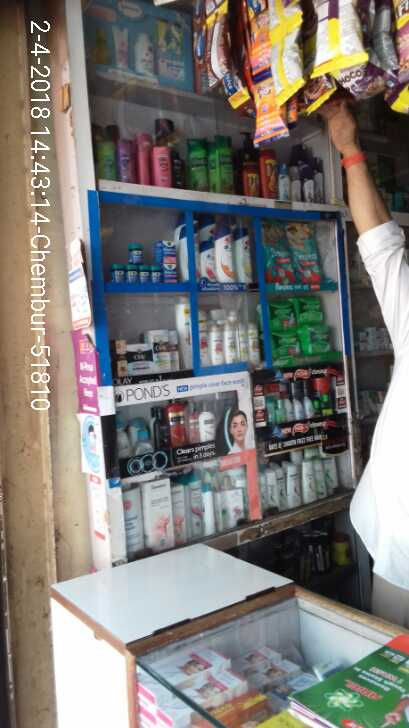vicks: (111, 240, 183, 285)
